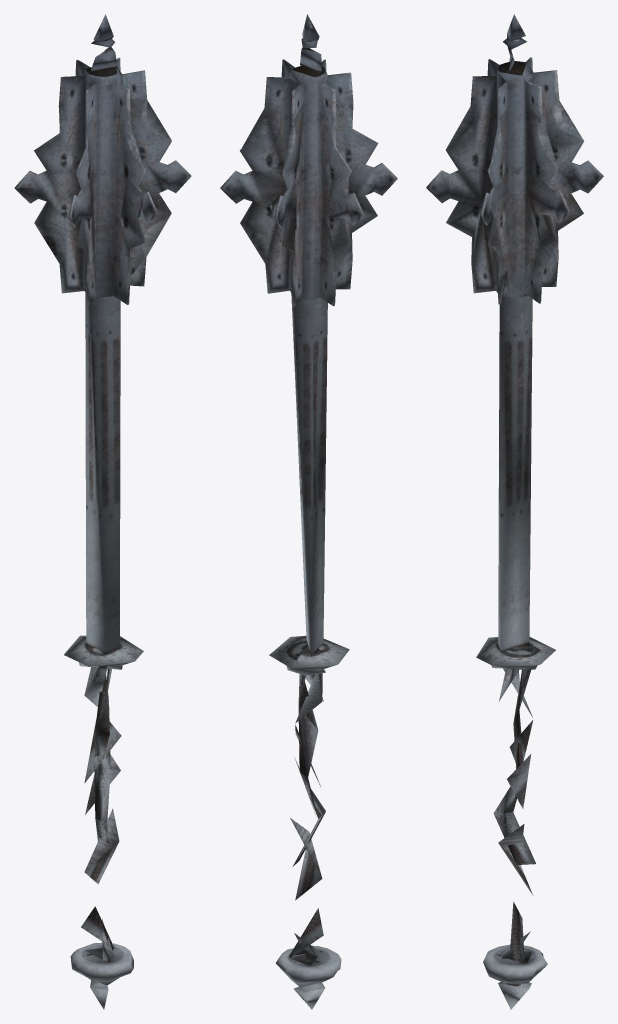
File: ornate_medieval_mace.glb
3 renders of one model, left to right at view 1: azimuth 30°, elevation 25°; view 2: azimuth 150°, elevation 25°; view 3: azimuth 270°, elevation 25°, orthographic.
Visible parts, largest first — view 1: ornate_medieval_mace; view 2: ornate_medieval_mace; view 3: ornate_medieval_mace.
Part boxes in pixels (x1,y1,x2,y2): ornate_medieval_mace: (14,14,191,1009); ornate_medieval_mace: (220,14,397,1009); ornate_medieval_mace: (426,14,603,1009).
Bounding box in the file's own units: 0.0949 × 0.6286 × 0.1015.
1 material, 1 textured.
